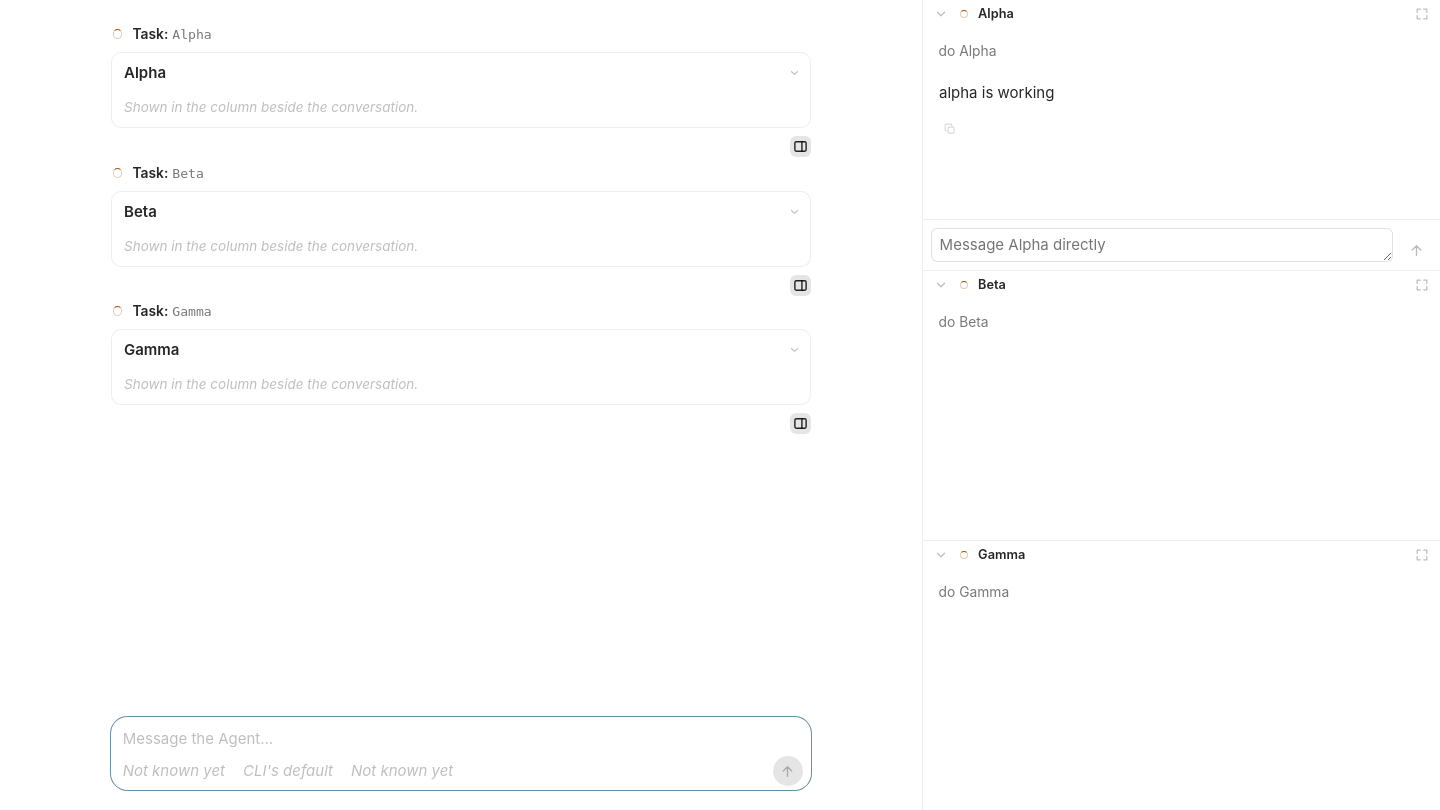
Test: the column, laid out as VS Code lays out its views › folds a pane to its header in its place, and unfolds it from the header
Click the button named "Fold Alpha" at (941, 14), box [931,4,951,24]
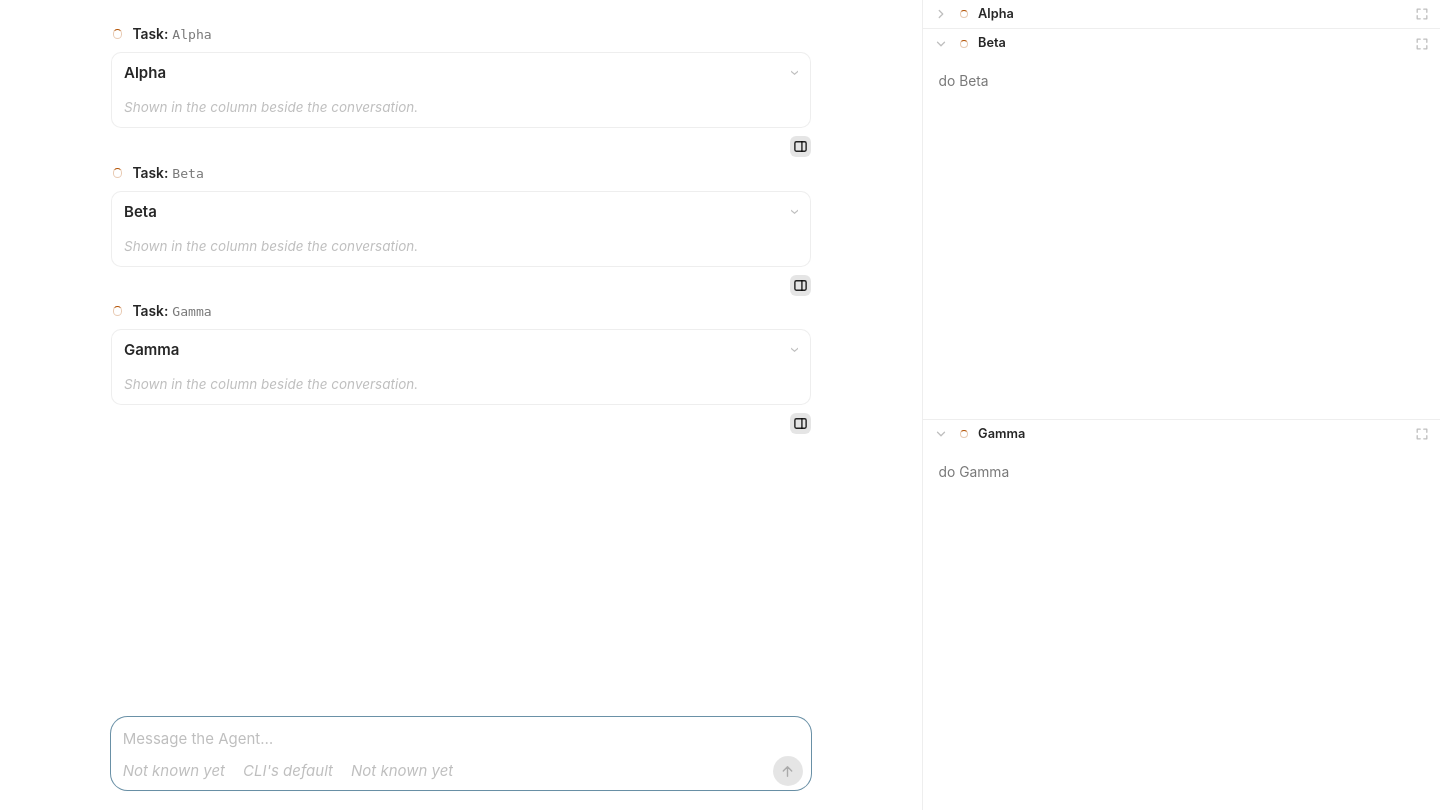
The header itself unfolds it.
Click the header "Alpha" at (996, 14), box [923,0,1439,28]
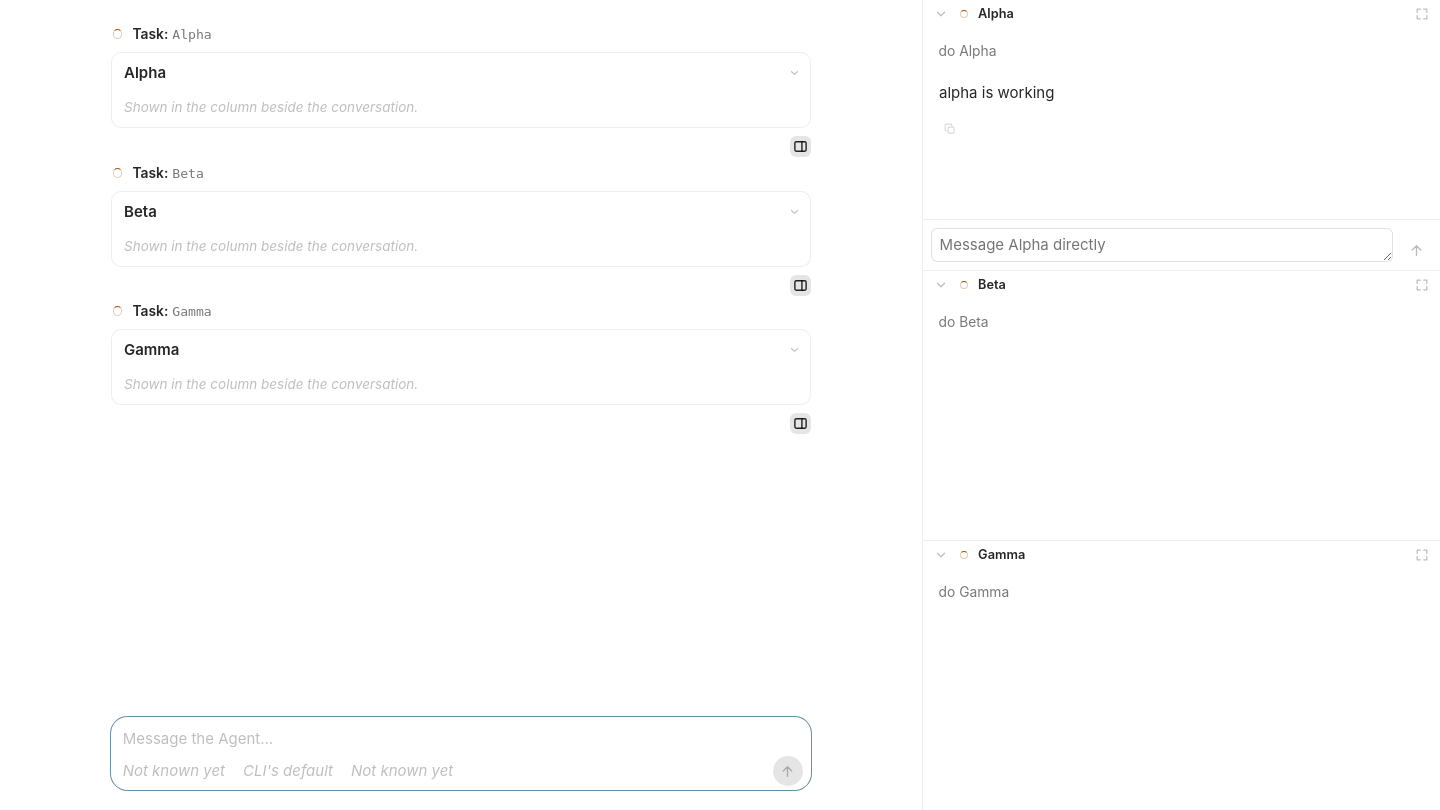
Now the button named "Fold Alpha" is expanded, box [931,4,951,24]
